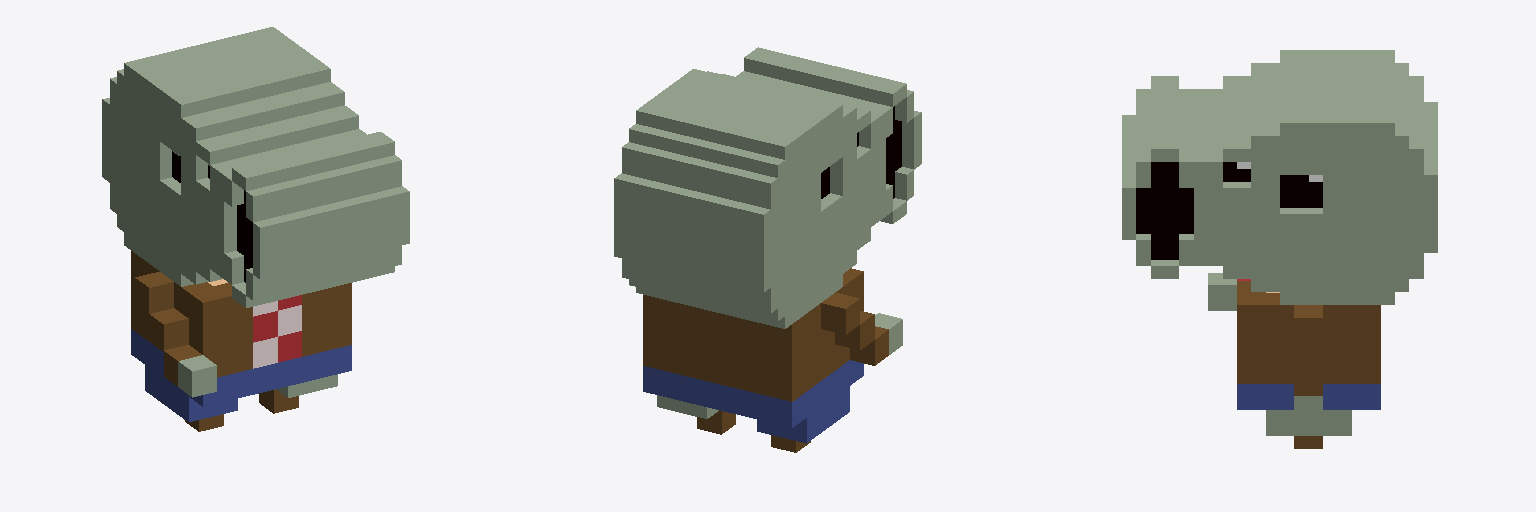
3 views of the same model, side by side, from view 1: azimuth 30°, elevation 25°; view 2: azimuth 150°, elevation 25°; view 3: azimuth 270°, elevation 25° (orthographic).
Visible parts, largest first — view 1: object 1; view 2: object 1; view 3: object 1.
Boxes of the visible parts, <box> form: object 1: <box>102,27,409,431</box>; object 1: <box>614,47,921,452</box>; object 1: <box>1122,50,1437,448</box>.
Size of the model in its own units: 1.6 by 2.6 by 2.2.
1 materials, 1 textured.